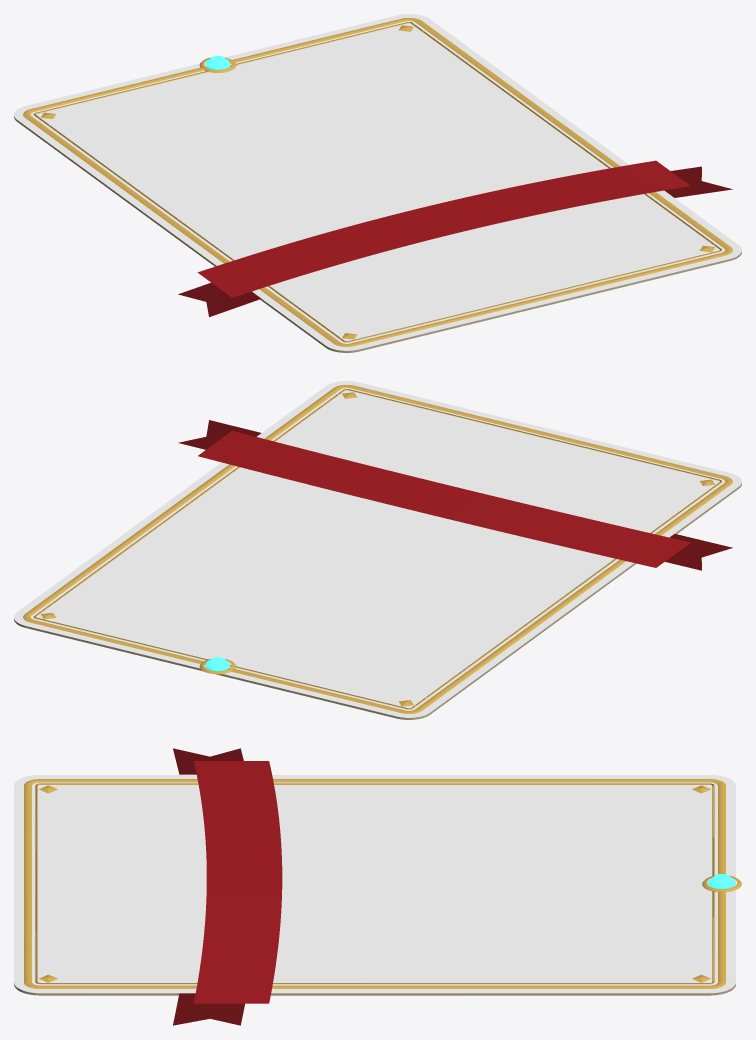
Rendered from card.glb.
3 views of the same model, one above another, from view 1: azimuth 30°, elevation 25°; view 2: azimuth 150°, elevation 25°; view 3: azimuth 270°, elevation 25° (orthographic). The views are drawn at different scales.
Parts seen in each view (by area): view 1: Card; view 2: Card; view 3: Card.
Part boxes in pixels (left/top/right/bottom): Card: left=14, top=14, right=741, bottom=352; Card: left=14, top=381, right=741, bottom=719; Card: left=14, top=748, right=741, bottom=1025.
Size of the model in its own units: 0.8 by 0.0147 by 0.8873.
